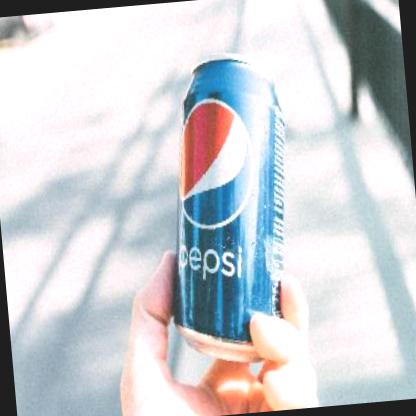alumunium_can: (153, 47, 307, 369)
